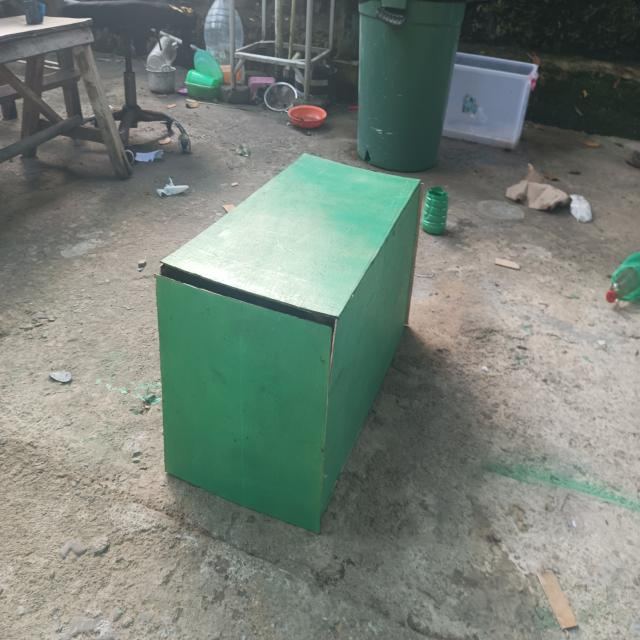green_box: (150, 112, 424, 528)
